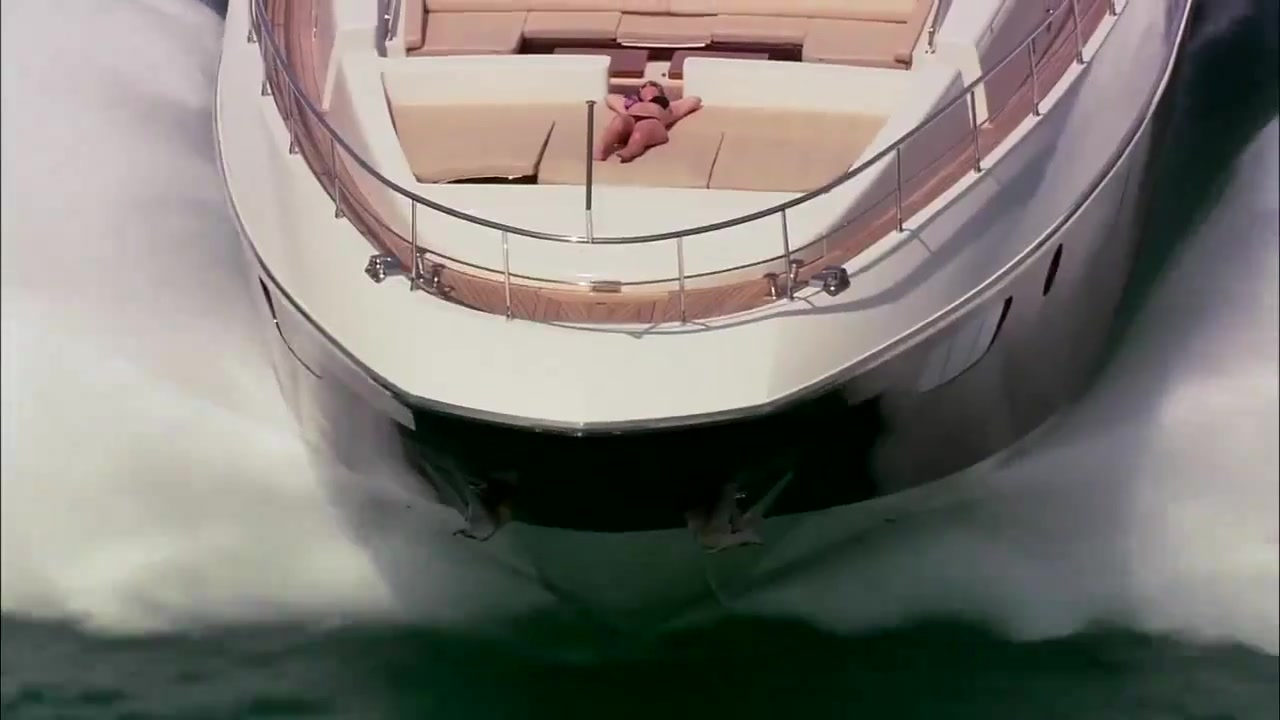boat: (202, 3, 1280, 629)
